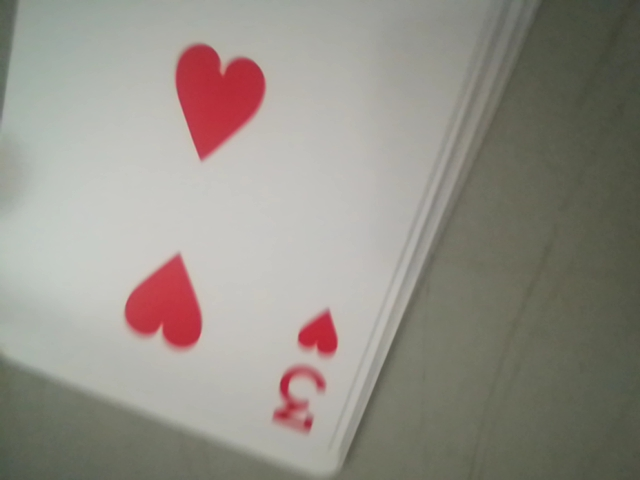hx 3: (264, 307, 344, 452)
